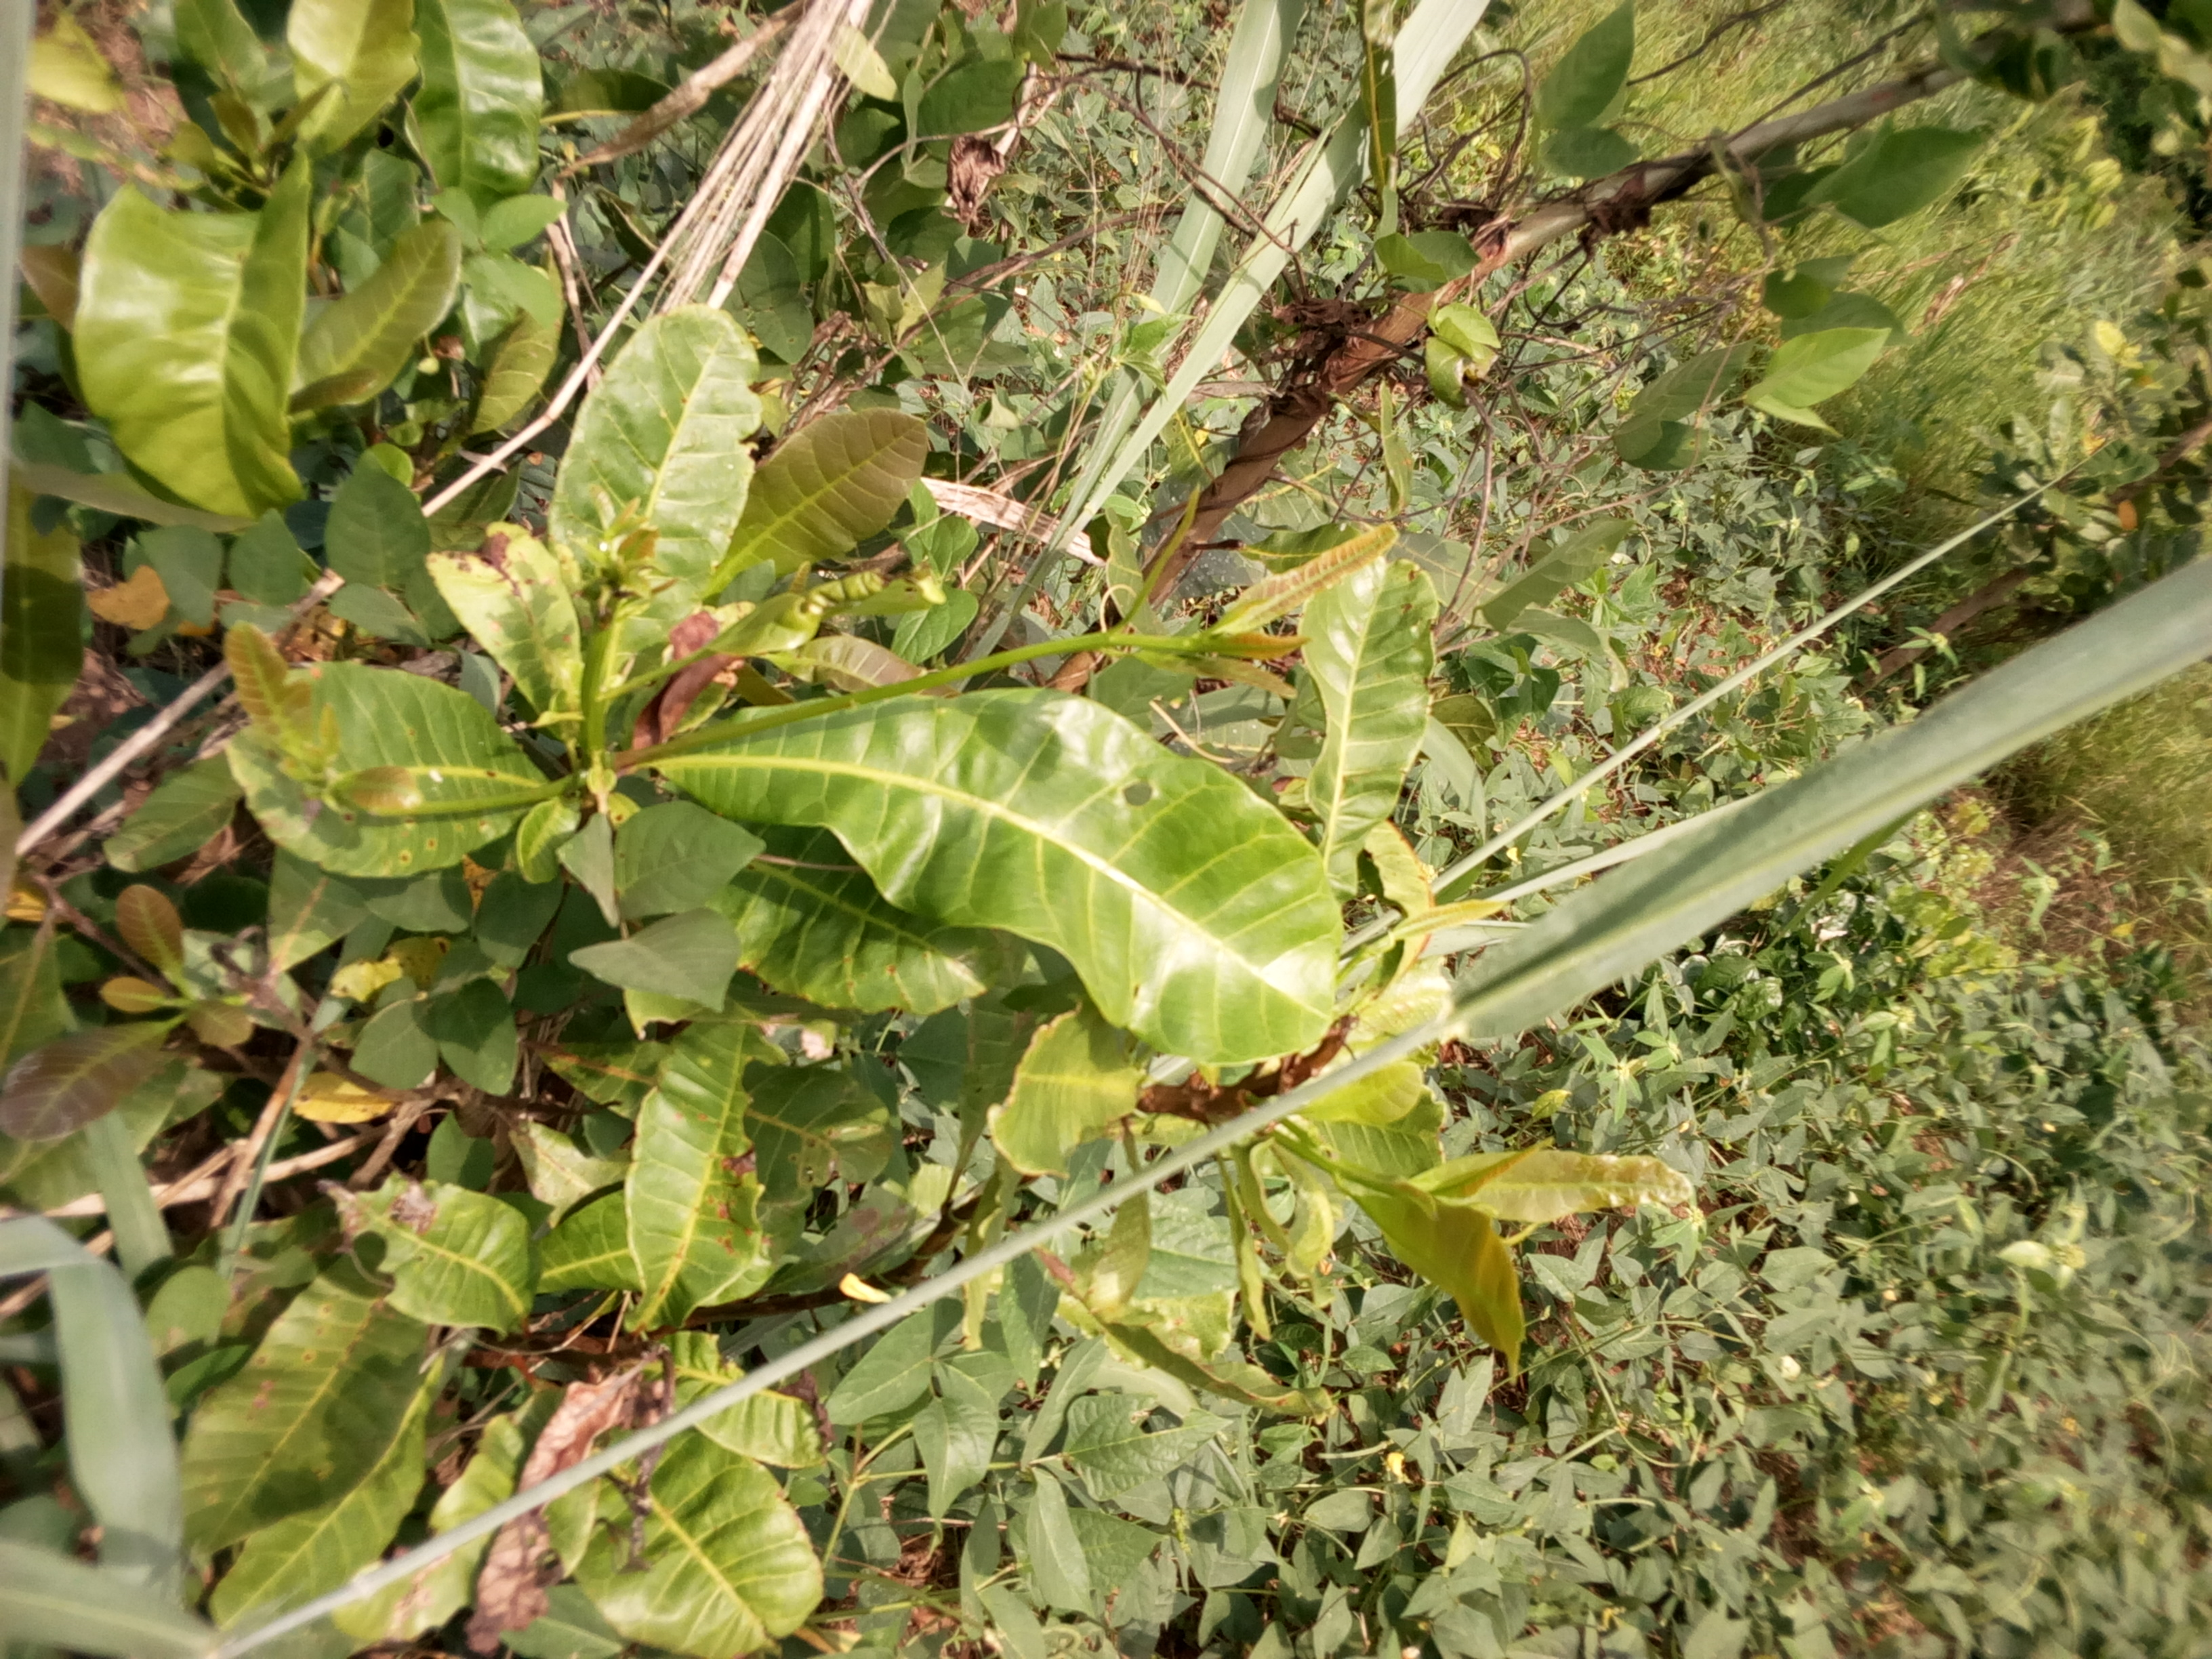Helopeltis anacardii: (747, 697, 1345, 1063), (77, 181, 312, 509)
